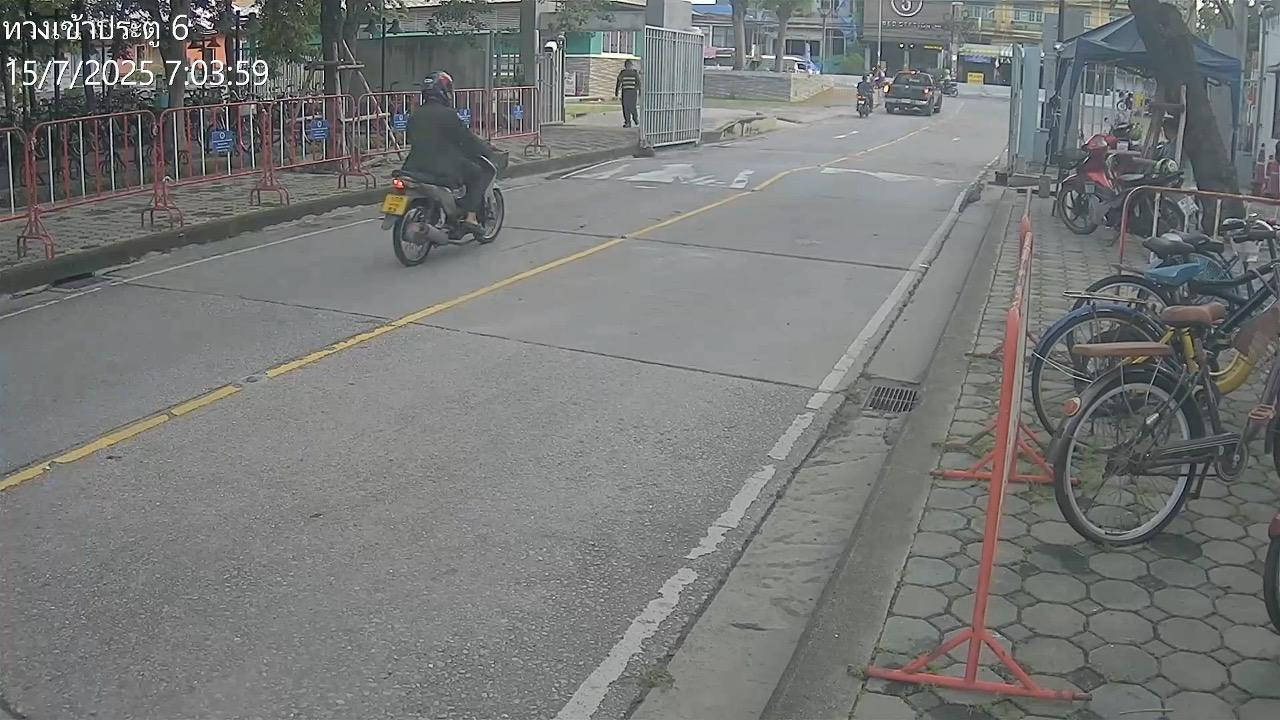With-Helmet: (422, 69, 454, 101)
